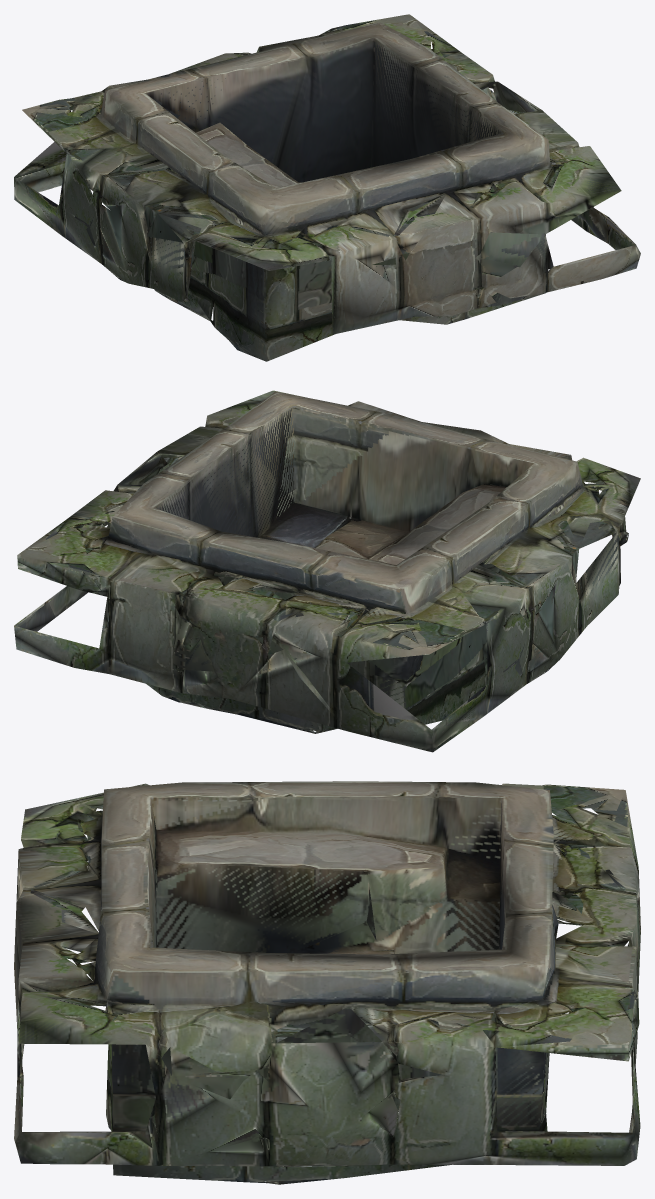
File: Tile_StairsDown.fbx
The picture shows the model from 3 angles, top to bottom: view 1: azimuth 30°, elevation 25°; view 2: azimuth 150°, elevation 25°; view 3: azimuth 270°, elevation 25°; orthographic projection. The views are drawn at different scales.
Parts seen in each view (by area): view 1: texture_mapping; view 2: texture_mapping; view 3: texture_mapping.
Part boxes in pixels (x1,y1,x2,y2): texture_mapping: [14, 14, 640, 361]; texture_mapping: [14, 390, 640, 752]; texture_mapping: [14, 781, 640, 1184].
Size of the model in its own units: 0.9971 by 0.9905 by 0.3881.
Materials: 1 (1 with a texture image).
